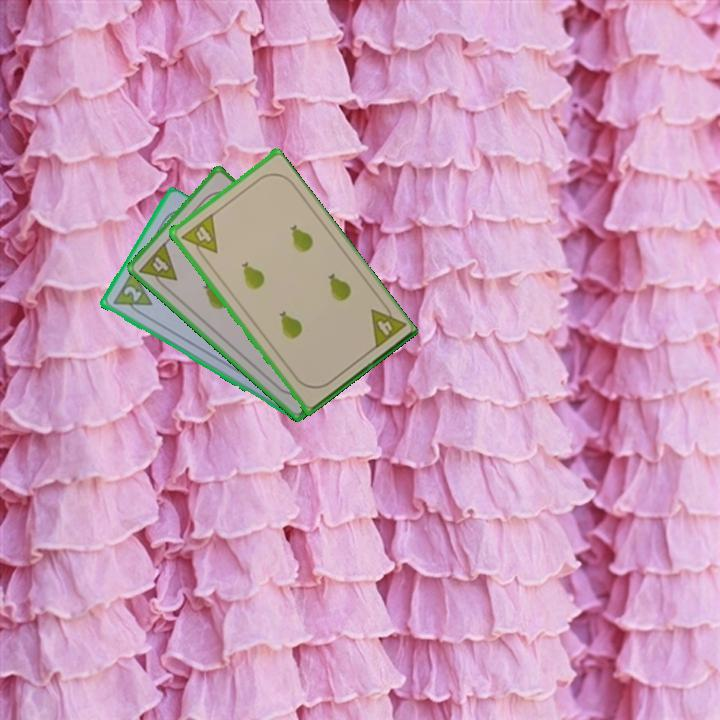2p: (108, 268, 155, 320)
4p: (135, 239, 180, 293), (366, 297, 408, 352), (177, 211, 220, 263)
